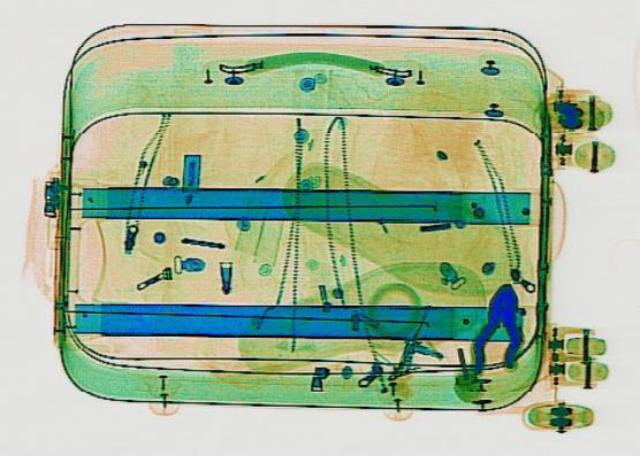Pliers: (466, 281, 530, 374)
